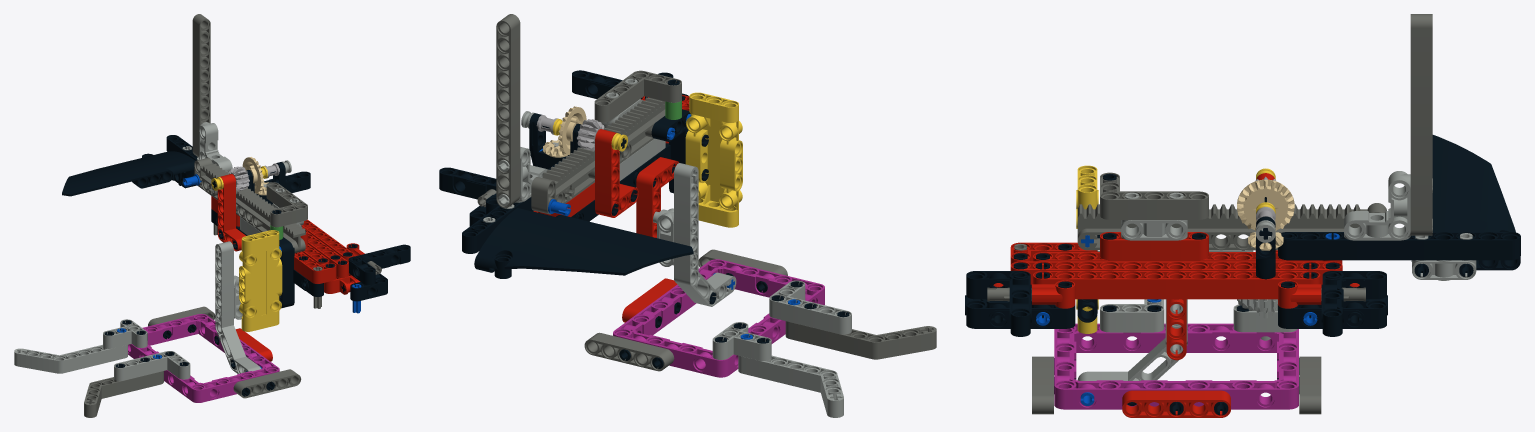
Rendered from Run_1.glb.
3 renders of one model, left to right at view 1: azimuth 30°, elevation 25°; view 2: azimuth 150°, elevation 25°; view 3: azimuth 270°, elevation 25°, orthographic. The views are drawn at different scales.
Parts seen in each view (by area): view 1: 71709.dat, 39794.dat, 64682.dat, 32009.dat, 18942.dat, 32525.dat.001, 6629.dat.001, 6629.dat, 32526.dat.001, 2477.dat, 32526.dat.003, 32526.dat.002 (+16 smaller); view 2: 64682.dat, 39794.dat, 71709.dat, 32525.dat.001, 18942.dat, 32009.dat, 6629.dat, 6629.dat.001, 32526.dat.003, 32526.dat.002, 32526.dat.001, 32526.dat.004 (+16 smaller); view 3: 39794.dat, 41239.dat.001, 64682.dat, 32525.dat, 32525.dat.001, 18942.dat, 32526.dat.002, 32278.dat, 55615.dat, 32316.dat.001, 32316.dat.003, 2477.dat (+18 smaller).
Boxes of the visible parts, x1=… form: 71709.dat: x1=239, y1=230, x2=282, y2=331; 39794.dat: x1=128, y1=314, x2=279, y2=402; 64682.dat: x1=62, y1=151, x2=195, y2=196; 32009.dat: x1=215, y1=241, x2=260, y2=373; 18942.dat: x1=194, y1=157, x2=305, y2=252; 32525.dat.001: x1=192, y1=14, x2=210, y2=157; 6629.dat.001: x1=14, y1=344, x2=127, y2=373; 6629.dat: x1=84, y1=371, x2=163, y2=417; 32526.dat.001: x1=114, y1=351, x2=190, y2=381; 2477.dat: x1=348, y1=244, x2=410, y2=285; 32526.dat.003: x1=217, y1=174, x2=245, y2=251; 32526.dat.002: x1=266, y1=182, x2=307, y2=227; 64682.dat: x1=474, y1=208, x2=693, y2=278; 39794.dat: x1=613, y1=259, x2=824, y2=377; 71709.dat: x1=685, y1=92, x2=742, y2=227; 32525.dat.001: x1=496, y1=14, x2=520, y2=208; 18942.dat: x1=531, y1=97, x2=665, y2=214; 32009.dat: x1=674, y1=163, x2=736, y2=306; 6629.dat: x1=785, y1=321, x2=936, y2=359; 6629.dat.001: x1=738, y1=355, x2=843, y2=417; 32526.dat.003: x1=595, y1=129, x2=638, y2=217; 32526.dat.002: x1=594, y1=70, x2=681, y2=122; 32526.dat.001: x1=769, y1=280, x2=851, y2=334; 32526.dat.004: x1=636, y1=157, x2=678, y2=237; 39794.dat: x1=1054, y1=323, x2=1298, y2=409; 41239.dat.001: x1=1033, y1=271, x2=1320, y2=299; 64682.dat: x1=1411, y1=135, x2=1520, y2=270; 32525.dat: x1=1278, y1=232, x2=1520, y2=260; 32525.dat.001: x1=1410, y1=14, x2=1432, y2=235; 18942.dat: x1=1077, y1=203, x2=1386, y2=250; 32526.dat.002: x1=1100, y1=172, x2=1208, y2=219; 32278.dat: x1=1010, y1=261, x2=1342, y2=287; 55615.dat: x1=1344, y1=171, x2=1432, y2=240; 32316.dat.001: x1=1122, y1=390, x2=1230, y2=417; 32316.dat.003: x1=1100, y1=232, x2=1208, y2=260; 2477.dat: x1=966, y1=271, x2=1031, y2=336.
Size of the model in its own units: 4.84 by 4.19 by 4.99.
